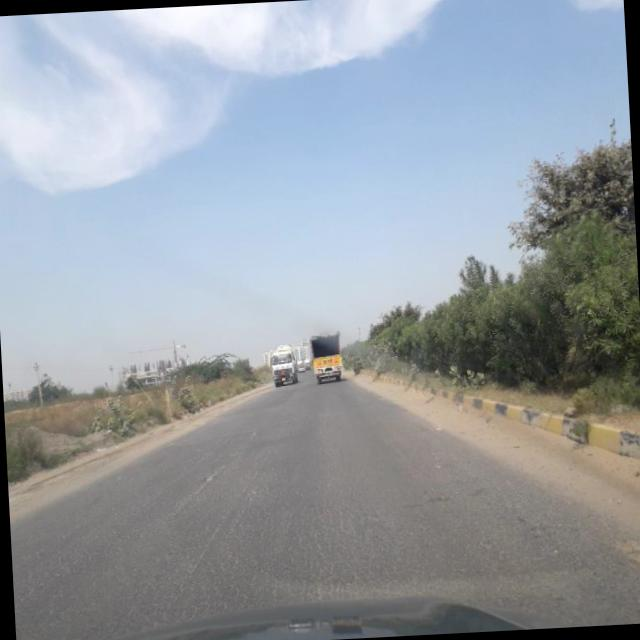crack: (8, 444, 482, 626)
